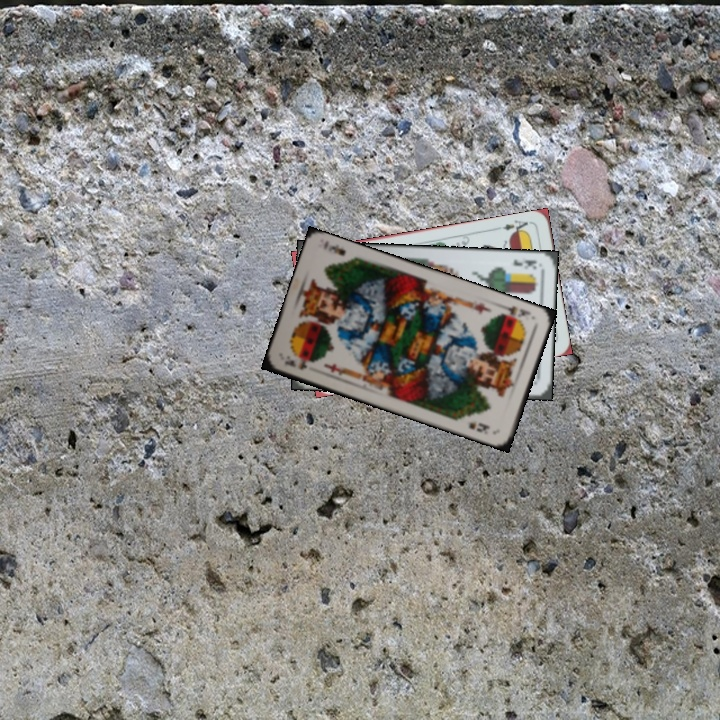EA: (498, 216, 534, 237)
EK: (509, 255, 540, 272)
SK: (497, 302, 533, 324), (281, 355, 317, 372)
